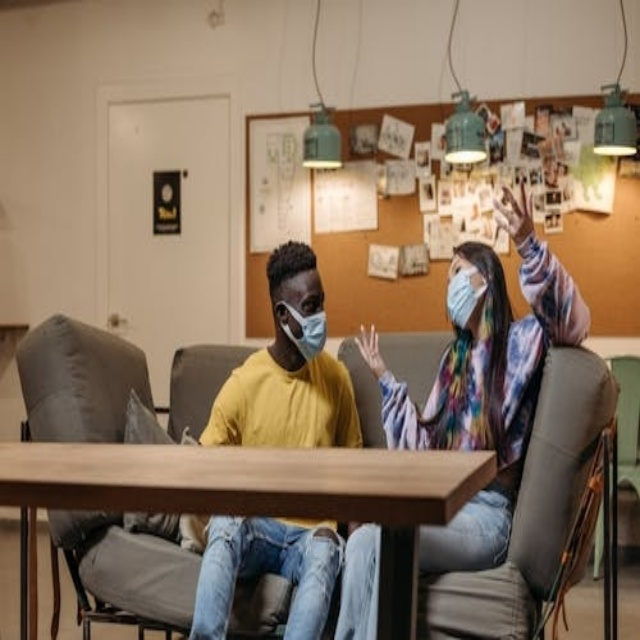Mascara: (278, 301, 327, 362), (446, 268, 489, 330)
Sin_gafas: (278, 292, 328, 320)
Sin_guantes: (494, 181, 535, 246), (354, 322, 388, 379)
